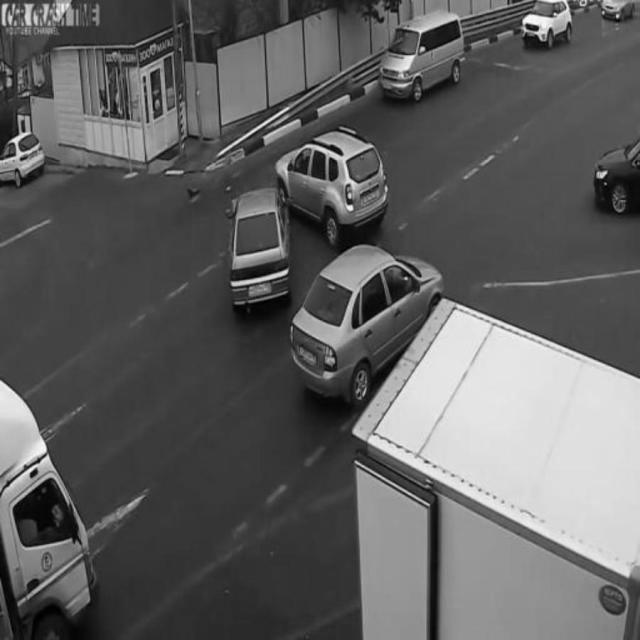accident: (227, 130, 385, 274)
vehicle: (290, 237, 438, 403), (0, 395, 94, 634), (375, 12, 468, 103), (590, 135, 640, 217), (520, 0, 580, 57), (0, 130, 47, 194)
